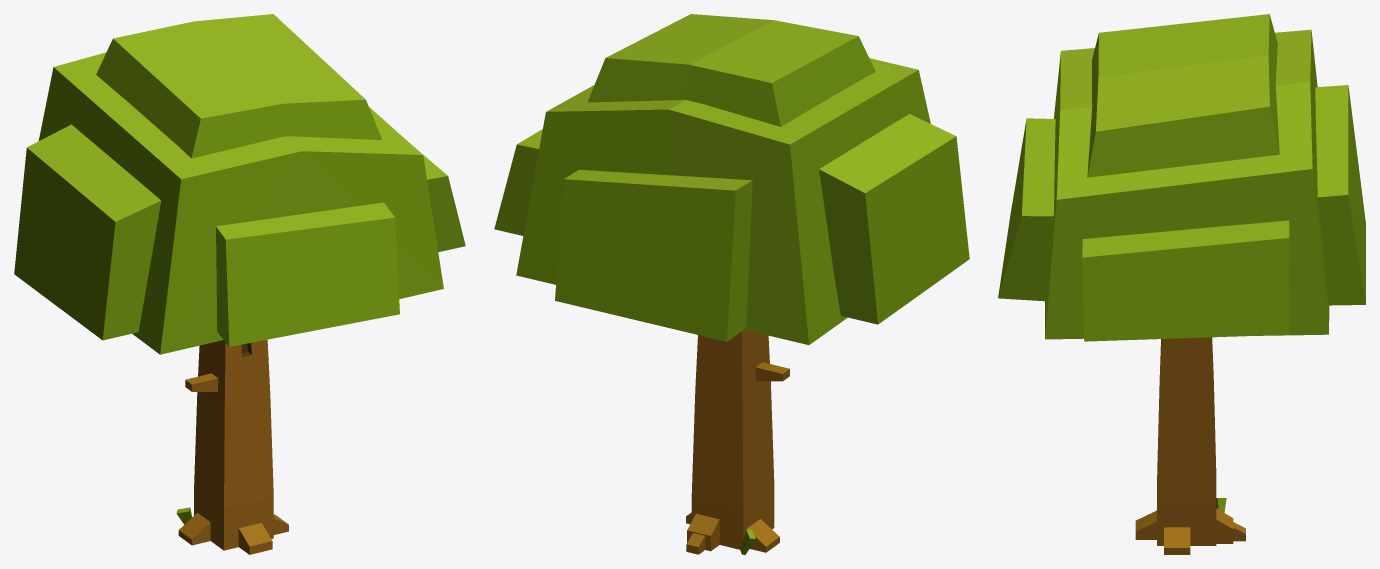
File: SF_Env_Tree_02.fbx
3 views of the same model, side by side, from view 1: azimuth 30°, elevation 25°; view 2: azimuth 150°, elevation 25°; view 3: azimuth 270°, elevation 25° (orthographic). The views are drawn at different scales.
Parts seen in each view (by area): view 1: SF_Prop_Tree_02; view 2: SF_Prop_Tree_02; view 3: SF_Prop_Tree_02.
Part boxes in pixels (x1,y1,x2,y2): SF_Prop_Tree_02: (14, 14, 465, 554); SF_Prop_Tree_02: (494, 14, 969, 554); SF_Prop_Tree_02: (998, 14, 1365, 554).
Size of the model in its own units: 5.51 by 7.1 by 4.9.
